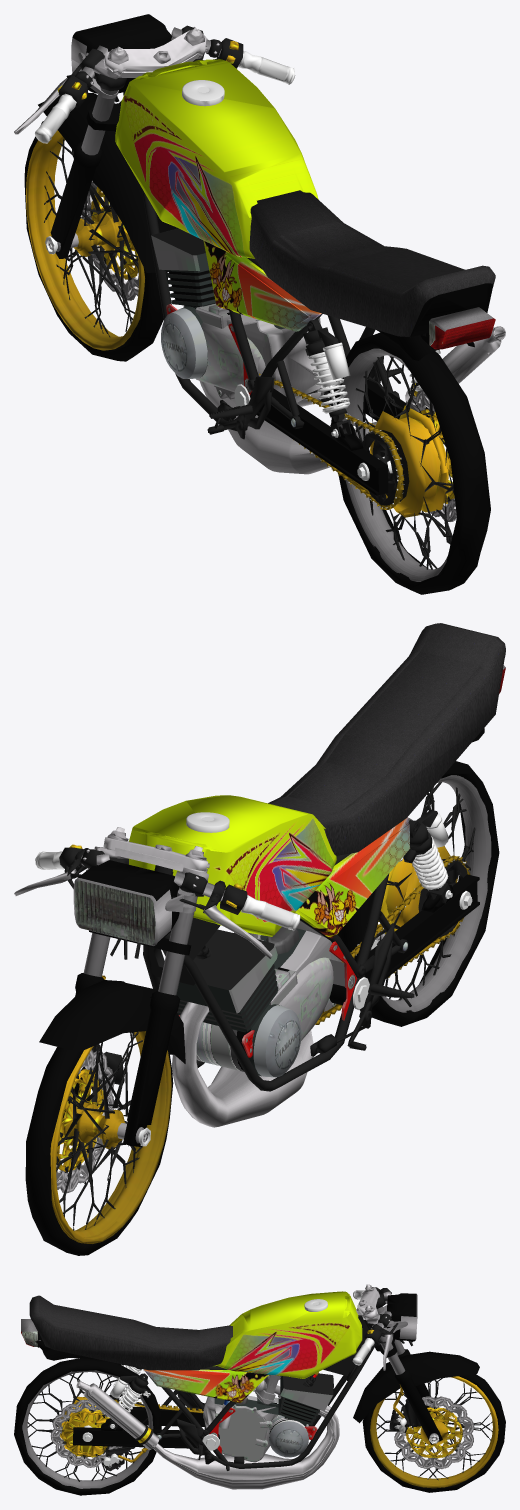
File: rxking.fbx
The picture shows the model from 3 angles, top to bottom: view 1: azimuth 30°, elevation 25°; view 2: azimuth 150°, elevation 25°; view 3: azimuth 270°, elevation 25°; orthographic projection. The views are drawn at different scales.
Visible parts, largest first — view 1: body, fx400eng, ban belakang, w111, ban_belakang_wheel_rear.004, wheel_front.003, mudguard.004, steer, sidecover, knlpt, ban.001, jari (+11 smaller); view 2: body, fx400eng, w111, forks_front.005, knlpt, ban depan, wheel_front.003, mudguard.004, steer, sidecover, ban.001, ban belakang (+9 smaller); view 3: body, fx400eng, knlpt, w111, ban belakang, mudguard.004, ckrf.001, sidecover, ckrr.001, wheel_front.003, ban depan, ban.001 (+12 smaller).
Part boxes in pixels (x1,y1,x2,y2): body: (115, 59, 495, 430); fx400eng: (151, 228, 324, 406); ban belakang: (331, 332, 490, 594); w111: (234, 319, 446, 509); ban_belakang_wheel_rear.004: (355, 356, 454, 569); wheel_front.003: (25, 130, 144, 350); mudguard.004: (38, 93, 177, 272); steer: (14, 25, 295, 143); sidecover: (203, 240, 321, 331); knlpt: (183, 305, 505, 474); ban.001: (338, 348, 456, 581); jari: (44, 138, 138, 337); body: (128, 623, 505, 1091); fx400eng: (176, 926, 341, 1077); w111: (315, 809, 479, 1024); forks_front.005: (73, 860, 196, 945); knlpt: (172, 1002, 313, 1127); ban depan: (25, 1045, 173, 1255); wheel_front.003: (50, 1031, 171, 1243); mudguard.004: (39, 980, 185, 1063); steer: (14, 844, 300, 959); sidecover: (295, 817, 410, 938); ban.001: (370, 775, 491, 1012); ban belakang: (337, 761, 499, 1026); body: (21, 1291, 380, 1468); fx400eng: (203, 1373, 333, 1462); knlpt: (76, 1380, 339, 1489); w111: (73, 1364, 219, 1471); ban belakang: (14, 1358, 161, 1495); mudguard.004: (353, 1351, 479, 1423); ckrf.001: (394, 1396, 474, 1469); sidecover: (144, 1365, 268, 1402); ckrr.001: (50, 1399, 122, 1467); wheel_front.003: (370, 1376, 498, 1488); ban depan: (362, 1374, 505, 1492); ban.001: (22, 1370, 153, 1488).
Bounding box in the file's own units: 0.7871 × 2.36 × 1.05.
24 materials, 17 textured.
